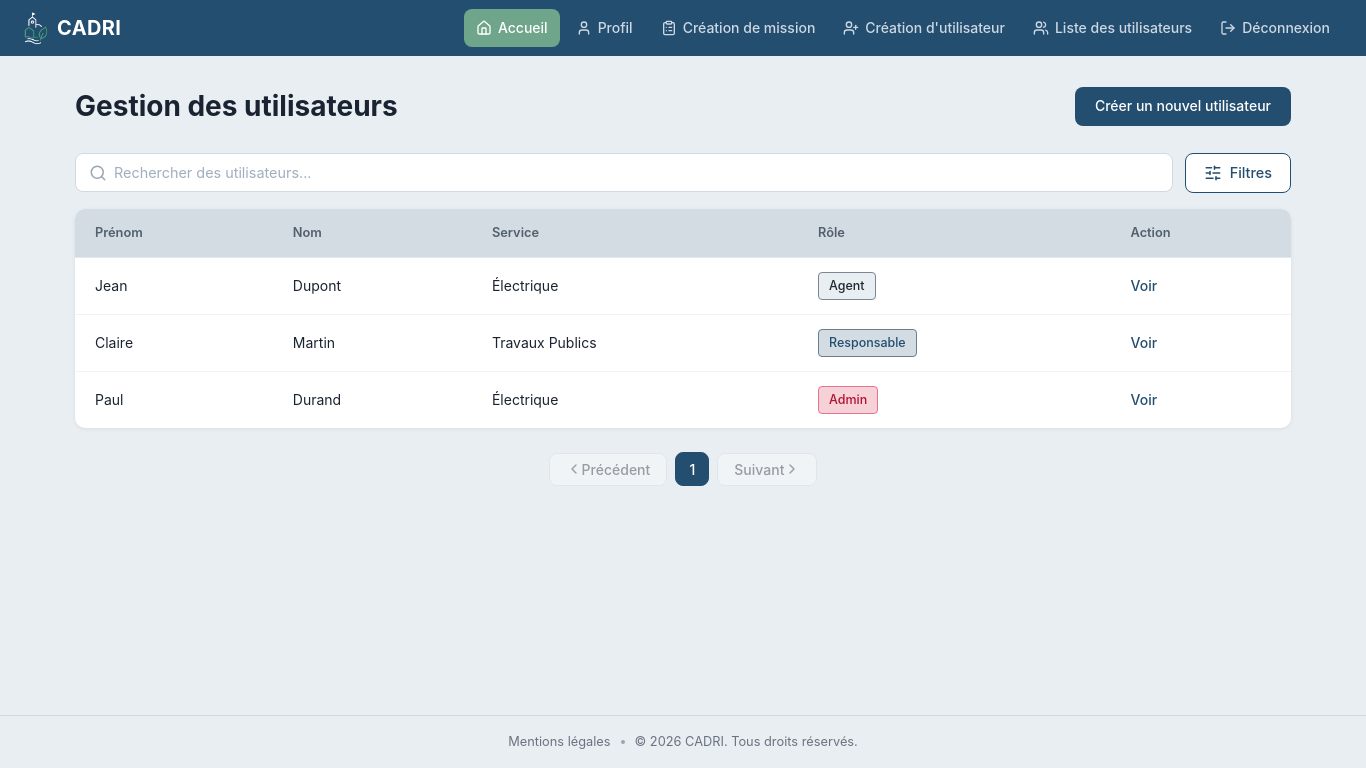
Test: UserManagementPage — filtres › la recherche filtre par prénom ou nom
Expected: the text "Jean" is shown, [75,258,273,315]
Type "martin" into the search field with placeholder "Rechercher des utilisateurs..." at (624, 173), box [75,153,1173,192]
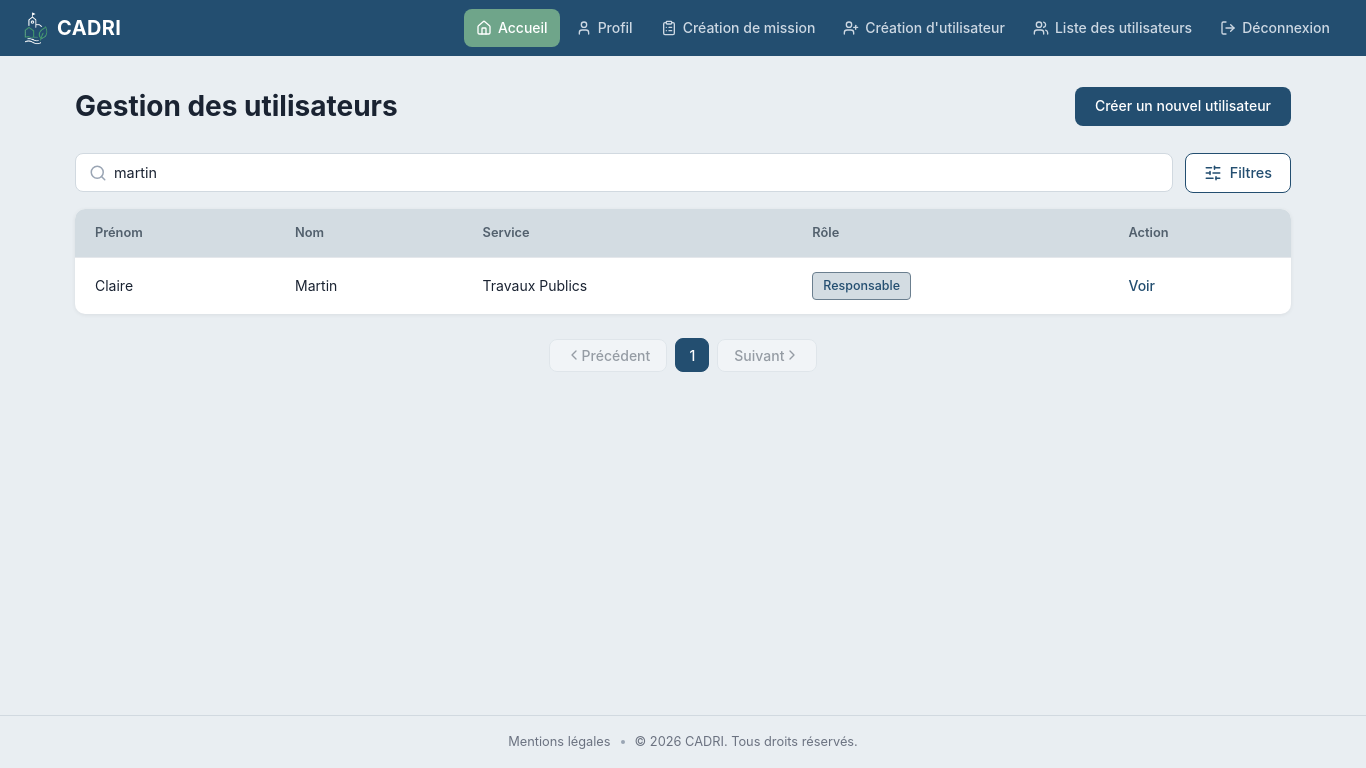
Expected: the text "Claire" is shown, [75,258,275,314]
Expected: the text "Jean" is gone
